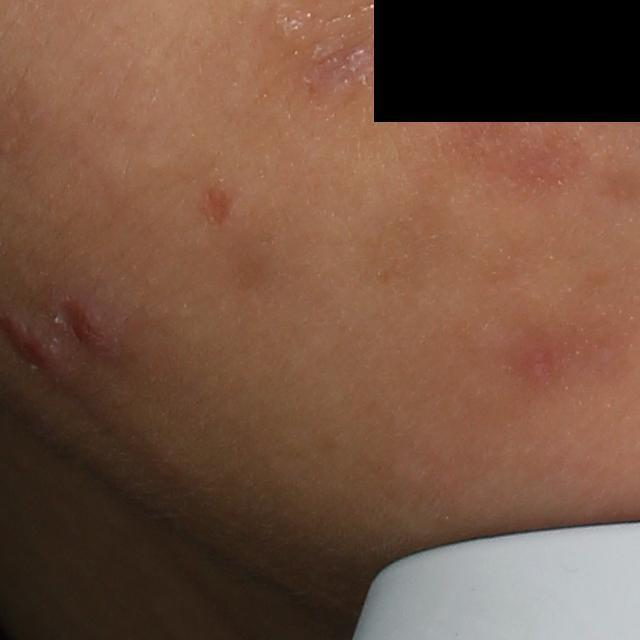papule: (62, 298, 113, 354)
